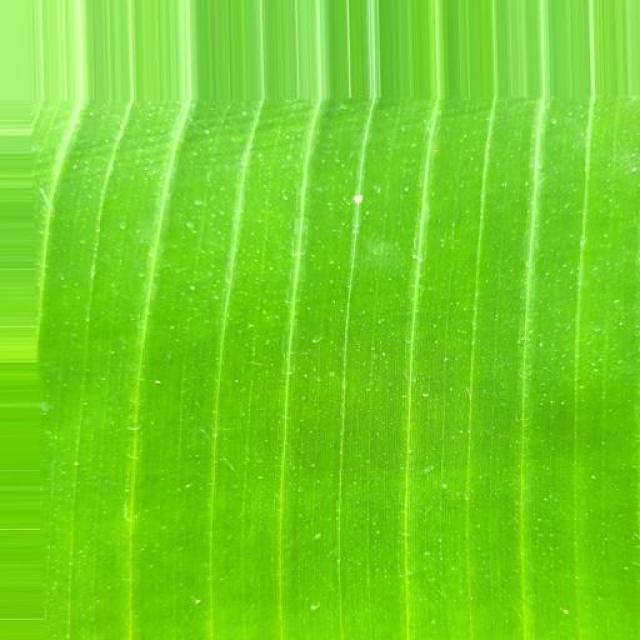Black_leaf_spot: (0, 64, 640, 602)
